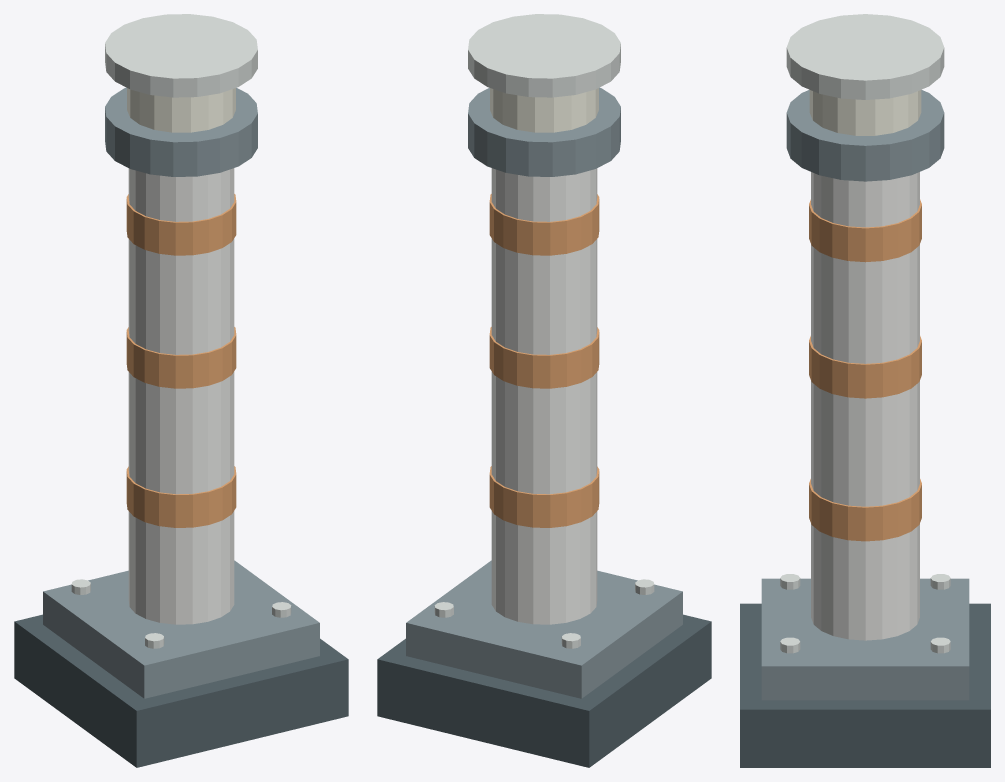
Rendered from exterior_hazard_bollard.glb.
The picture shows the model from 3 angles, left to right: view 1: azimuth 30°, elevation 25°; view 2: azimuth 150°, elevation 25°; view 3: azimuth 270°, elevation 25°; orthographic projection. The views are drawn at different scales.
Parts seen in each view (by area): view 1: bollard_post_white_painted, anchored_base_black_rubber, base_plate_dark_alloy, visibility_band_orange, top_guard_satin_steel, top_light_socket_dark_alloy, top_light_diffuser_light_diffuser, mount_bolts_satin_steel; view 2: bollard_post_white_painted, anchored_base_black_rubber, base_plate_dark_alloy, visibility_band_orange, top_guard_satin_steel, top_light_socket_dark_alloy, top_light_diffuser_light_diffuser, mount_bolts_satin_steel; view 3: bollard_post_white_painted, anchored_base_black_rubber, base_plate_dark_alloy, visibility_band_orange, top_guard_satin_steel, top_light_socket_dark_alloy, top_light_diffuser_light_diffuser, mount_bolts_satin_steel.
Boxes of the visible parts, x1=… form: bollard_post_white_painted: x1=128, y1=168, x2=234, y2=624; anchored_base_black_rubber: x1=14, y1=614, x2=348, y2=767; base_plate_dark_alloy: x1=43, y1=560, x2=319, y2=698; visibility_band_orange: x1=126, y1=194, x2=236, y2=527; top_guard_satin_steel: x1=105, y1=14, x2=257, y2=97; top_light_socket_dark_alloy: x1=105, y1=87, x2=257, y2=176; top_light_diffuser_light_diffuser: x1=127, y1=88, x2=235, y2=132; mount_bolts_satin_steel: x1=71, y1=579, x2=291, y2=648; bollard_post_white_painted: x1=491, y1=168, x2=597, y2=624; anchored_base_black_rubber: x1=377, y1=614, x2=711, y2=767; base_plate_dark_alloy: x1=406, y1=560, x2=682, y2=698; visibility_band_orange: x1=489, y1=194, x2=599, y2=527; top_guard_satin_steel: x1=468, y1=14, x2=620, y2=97; top_light_socket_dark_alloy: x1=468, y1=87, x2=620, y2=176; top_light_diffuser_light_diffuser: x1=490, y1=88, x2=598, y2=132; mount_bolts_satin_steel: x1=434, y1=579, x2=654, y2=648; bollard_post_white_painted: x1=811, y1=172, x2=919, y2=640; anchored_base_black_rubber: x1=740, y1=603, x2=990, y2=767; base_plate_dark_alloy: x1=761, y1=578, x2=969, y2=700; visibility_band_orange: x1=809, y1=199, x2=921, y2=541; top_guard_satin_steel: x1=786, y1=14, x2=944, y2=99; top_light_socket_dark_alloy: x1=786, y1=90, x2=944, y2=181; top_light_diffuser_light_diffuser: x1=809, y1=90, x2=921, y2=135; mount_bolts_satin_steel: x1=780, y1=574, x2=950, y2=653.
Bounding box in the file's own units: 0.35 × 1.03 × 0.35.
